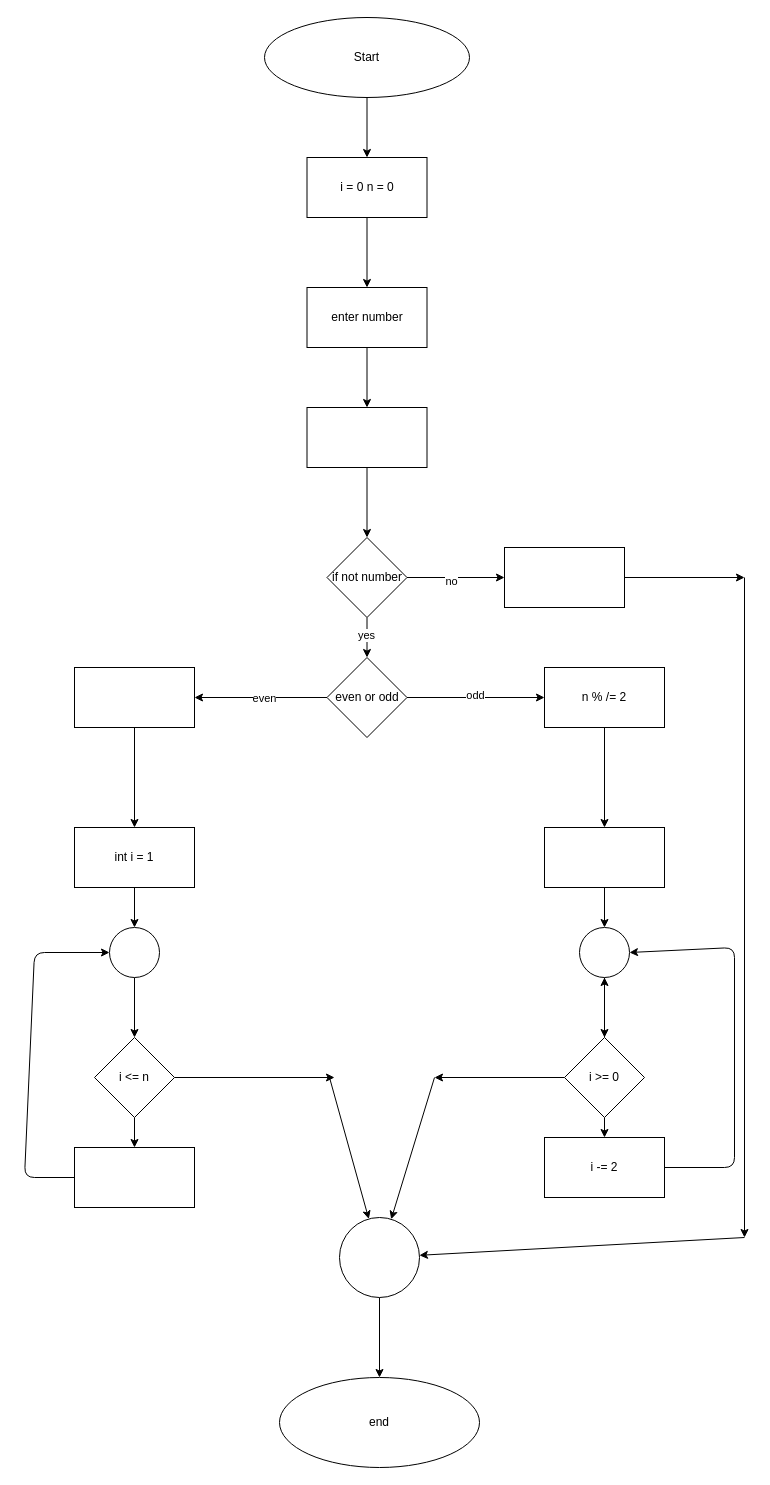
This 770x1485 diagram has some shape labels left out. Here are the shapes that lost their labels. From the top down, the centre of each, then its label:
At point (366, 437): "series".
At point (564, 577): "Please enter number olny".
At point (134, 697): "n % = 2".
At point (604, 857): "int i = n".
At point (134, 1177): "i +=2".
